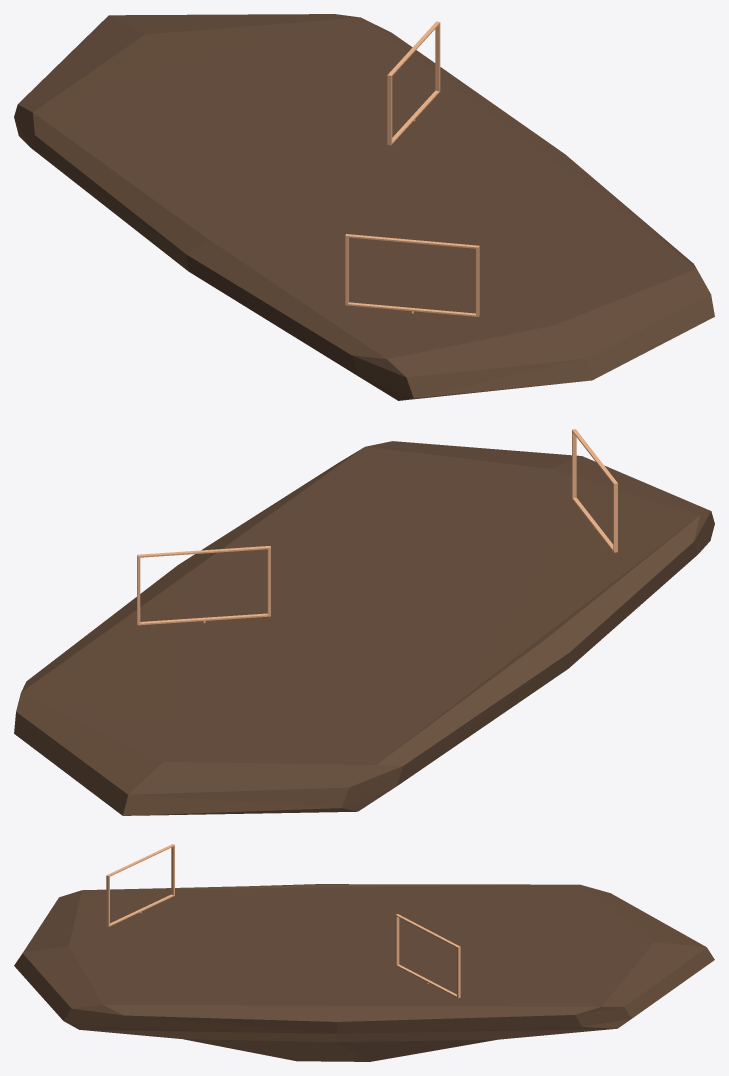
Rendered from tutorial sima2.fbx.
The picture shows the model from 3 angles, top to bottom: view 1: azimuth 30°, elevation 25°; view 2: azimuth 150°, elevation 25°; view 3: azimuth 270°, elevation 25°; orthographic projection. The views are drawn at different scales.
Parts seen in each view (by area): view 1: Tikei, 실린더.001, 실린더; view 2: Tikei, 실린더, 실린더.001; view 3: Tikei, 실린더, 실린더.001.
Boxes of the visible parts, x1,y1,x2,y2 form: Tikei: (14,14,714,400); 실린더.001: (345,234,479,316); 실린더: (387,21,440,145); Tikei: (14,441,714,815); 실린더: (137,546,270,625); 실린더.001: (572,429,617,552); Tikei: (14,884,714,1061); 실린더: (395,914,460,998); 실린더.001: (106,844,174,926).
Size of the model in its own units: 5802 by 3155 by 12453.
